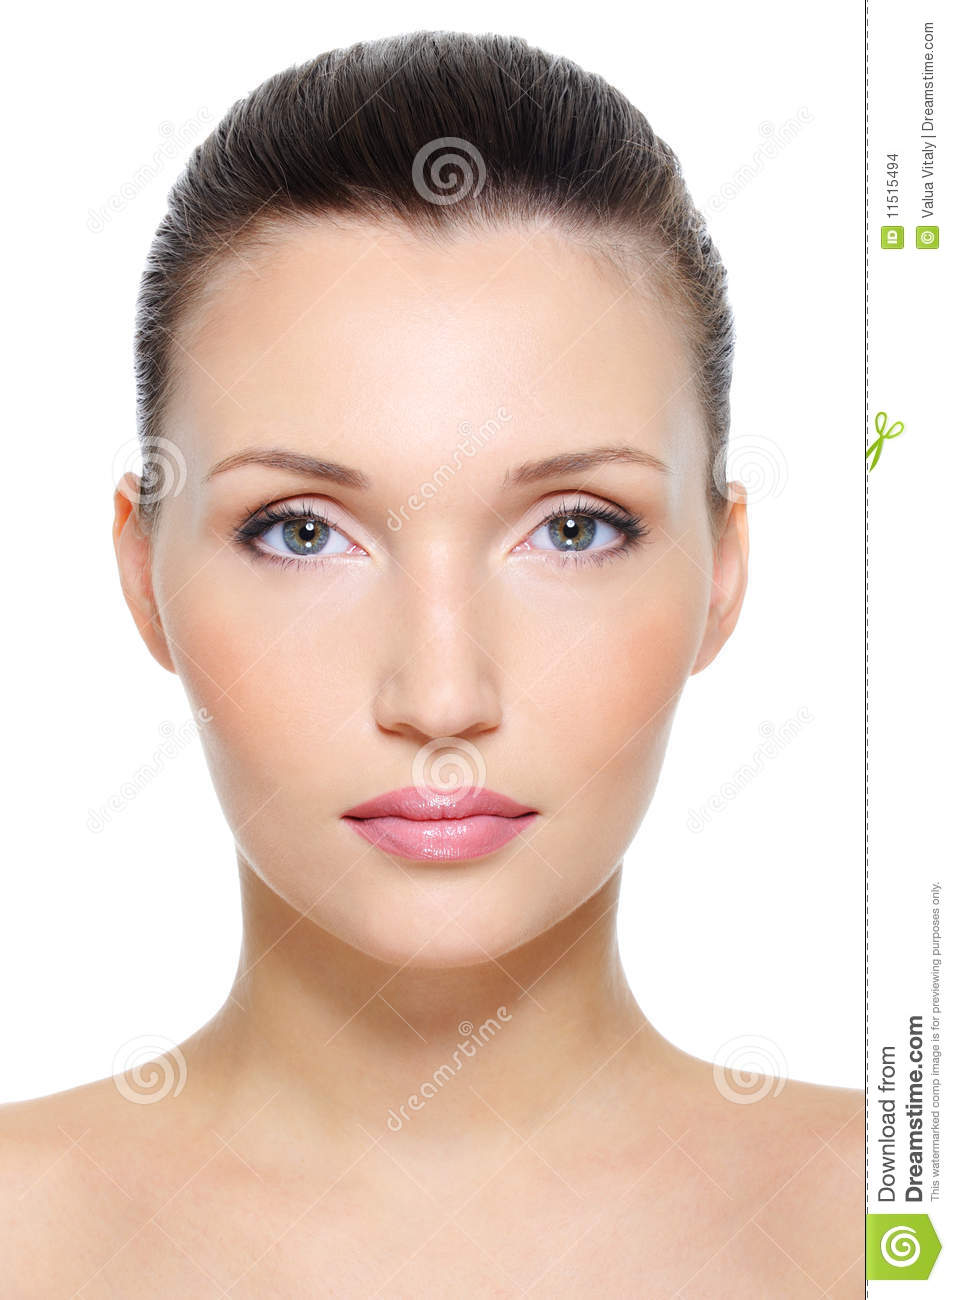without_mask: (204, 332, 688, 900)
